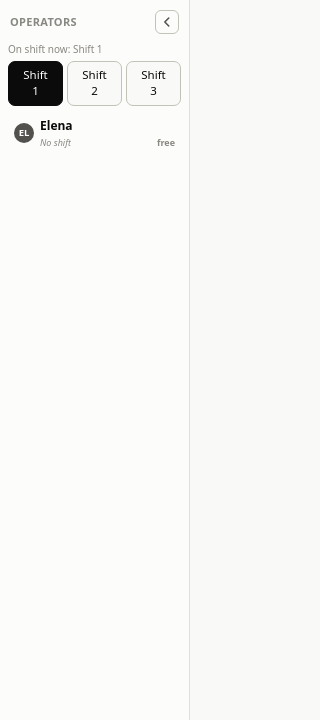
OperatorPanel: the shift chips and the shift-based default list (S66-c, R-448) › SC-3: clicking an outlined chip toggles it in, and the heading names every shown band
This screenshot has width=320, height=720.
Click the button "Shift 2".
click(94, 83)  # box [67, 60, 122, 106]
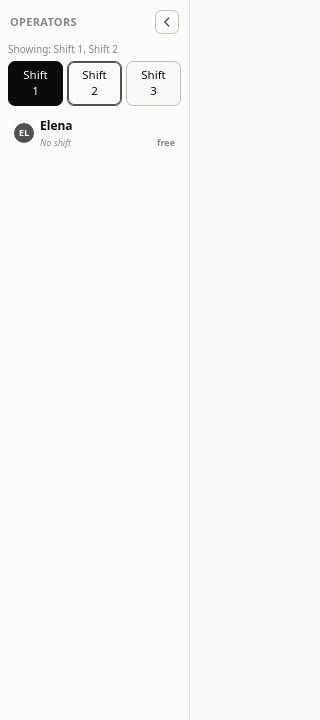
Expected: the text "Showing: Shift 1, Shift 2" is shown, [8, 42, 118, 56]
